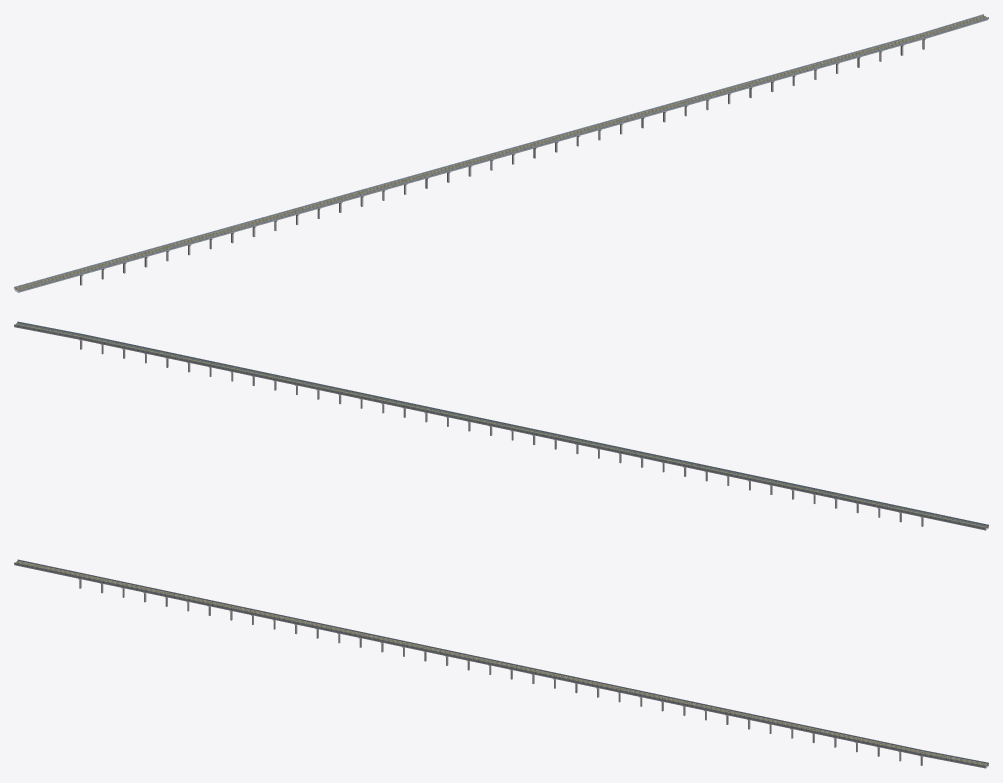
3 views of the same model, one above another, from view 1: azimuth 30°, elevation 25°; view 2: azimuth 150°, elevation 25°; view 3: azimuth 330°, elevation 25° (orthographic). The views are drawn at different scales.
Parts seen in each view (by area): view 1: HN1264___La_Khe_Metro_Station___1; view 2: HN1264___La_Khe_Metro_Station___1; view 3: HN1264___La_Khe_Metro_Station___1.
Part boxes in pixels (bbox=[...]): HN1264___La_Khe_Metro_Station___1: bbox=[14, 14, 988, 292]; HN1264___La_Khe_Metro_Station___1: bbox=[14, 321, 988, 530]; HN1264___La_Khe_Metro_Station___1: bbox=[14, 559, 988, 768].
Bounding box in the file's own units: 1081 × 15.17 × 77.
1 material, 1 textured.
